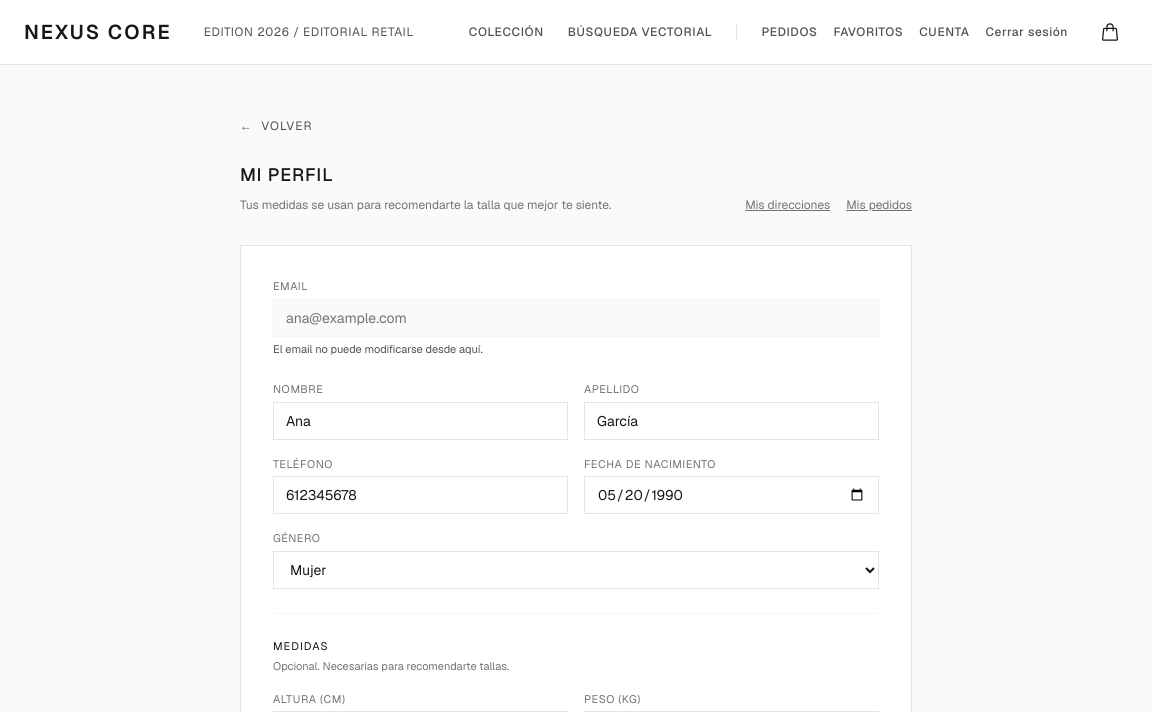
Test: ProfilePage › debe rechazar una fecha de nacimiento futura
In the date field labelled "Fecha de nacimiento": {"x": 732, "y": 495} [584,476,879,514], type "2099-01-01"
(page scrolled)
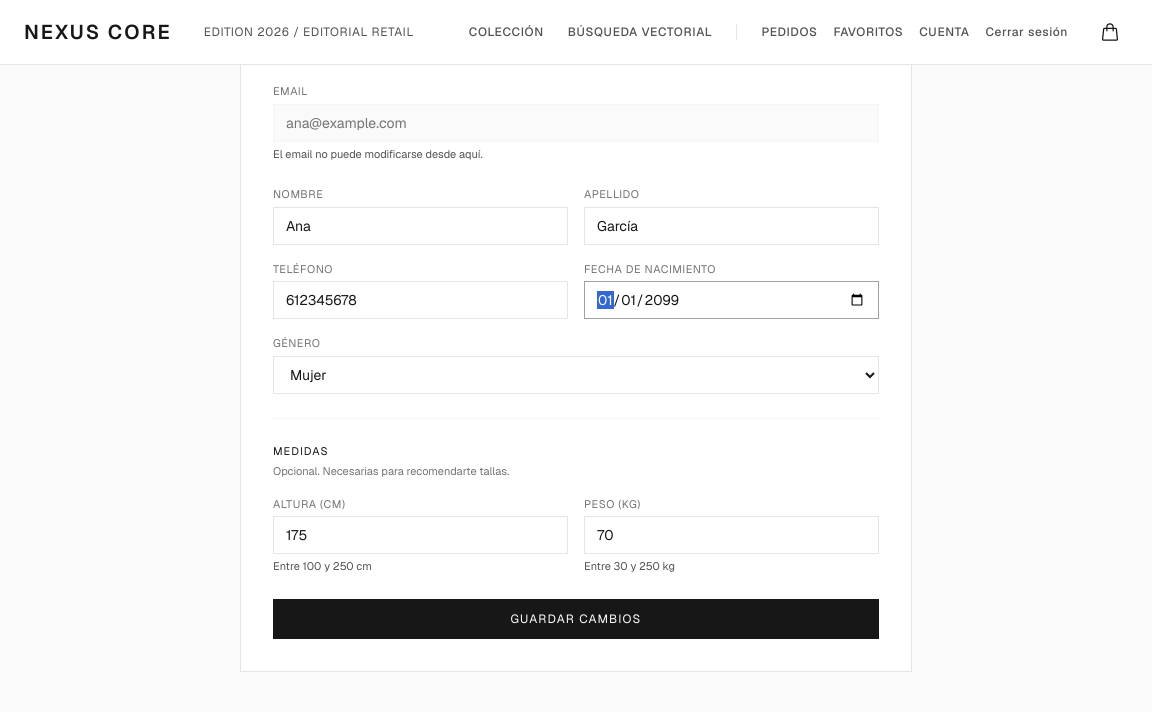
Click the button "Guardar cambios": {"x": 576, "y": 618} [273,598,879,638]
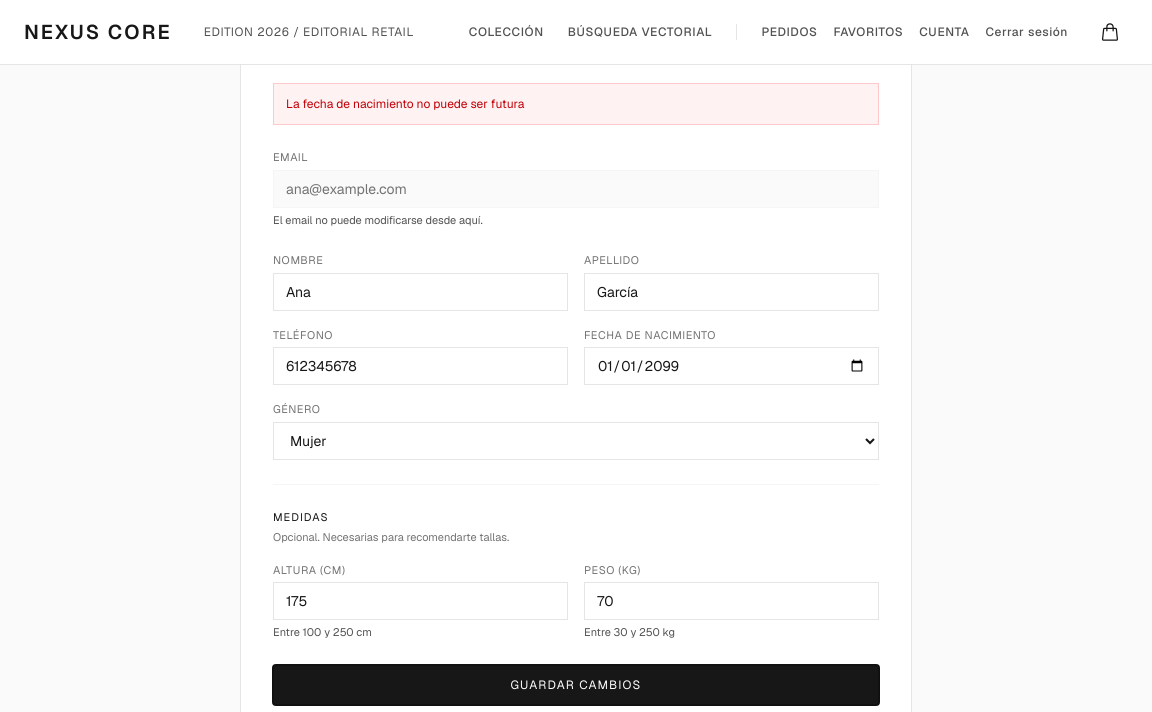
Now the message reads "La fecha de nacimiento no puede ser futura", box [286,96,524,112]
